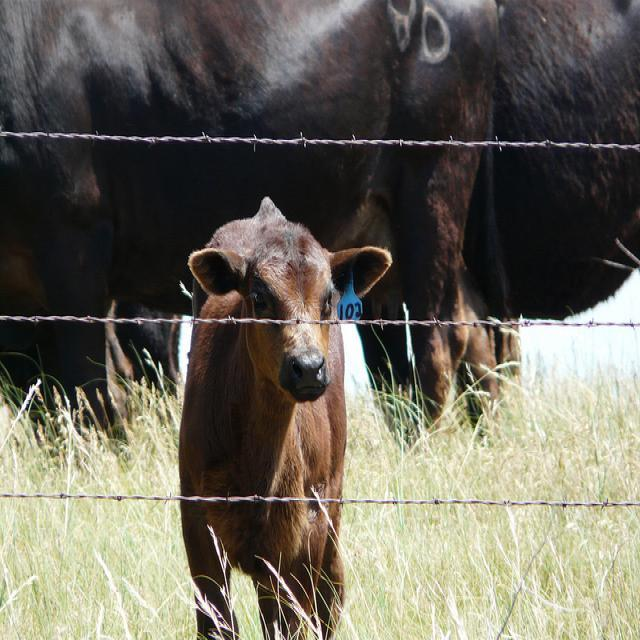cow: (2, 0, 496, 471), (173, 191, 393, 631), (456, 0, 639, 428)
